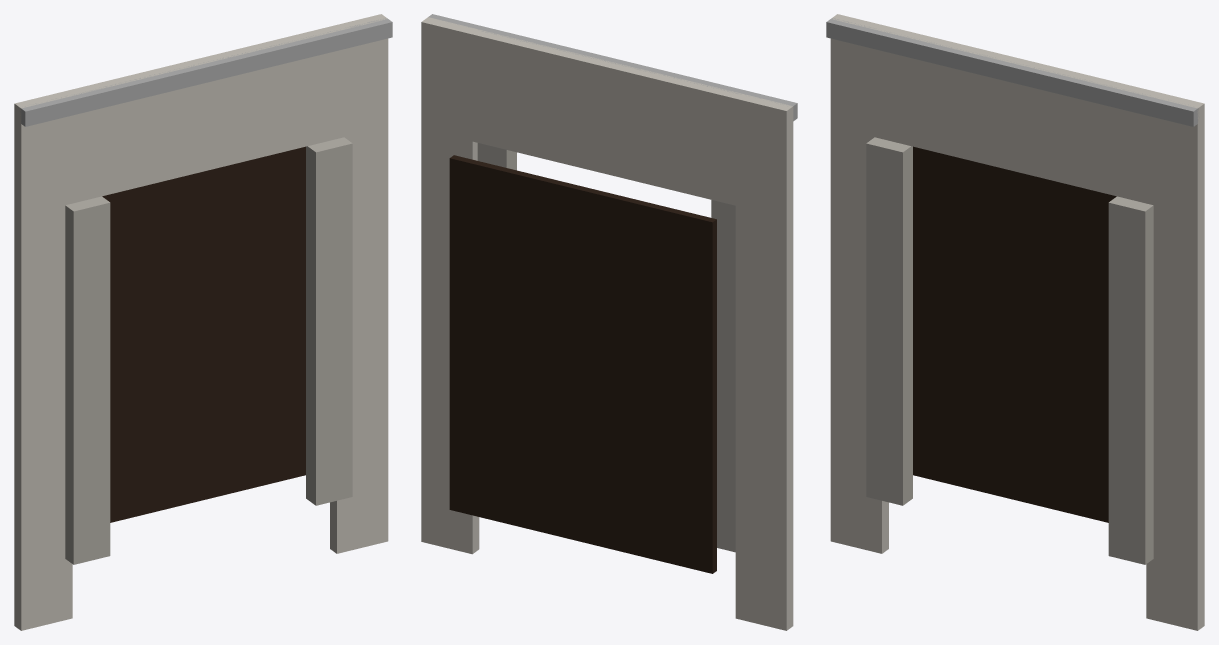
File: tent_door.obj
3 renders of one model, left to right at view 1: azimuth 30°, elevation 25°; view 2: azimuth 150°, elevation 25°; view 3: azimuth 330°, elevation 25°, orthographic.
Size of the model in its own units: 2.5 by 3.4 by 0.45.
